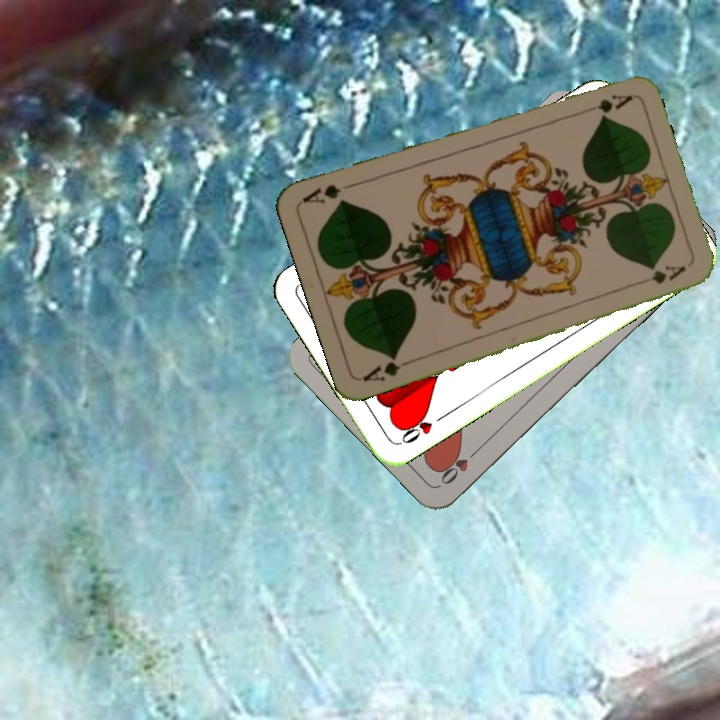GA: (358, 351, 416, 385), (576, 90, 634, 115)
HO: (436, 443, 484, 488), (396, 409, 449, 447)
